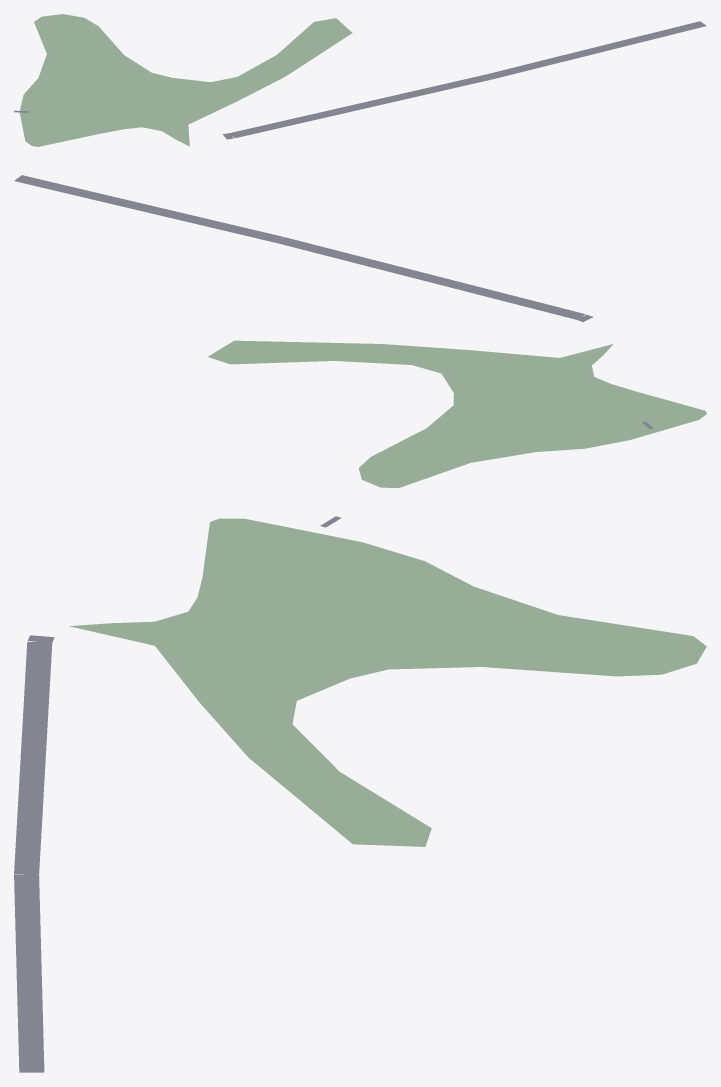
Rendered from 118_128_mid.glb.
3 views of the same model, one above another, from view 1: azimuth 30°, elevation 25°; view 2: azimuth 150°, elevation 25°; view 3: azimuth 270°, elevation 25° (orthographic). The views are drawn at different scales.
Bounding box in the file's own units: 562 × 7.09 × 289.
